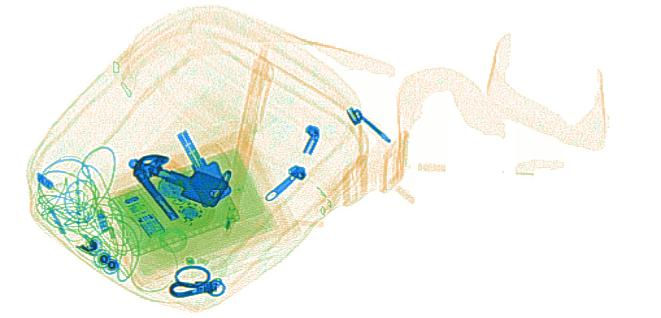USBFlashDisk: (120, 191, 167, 238)
